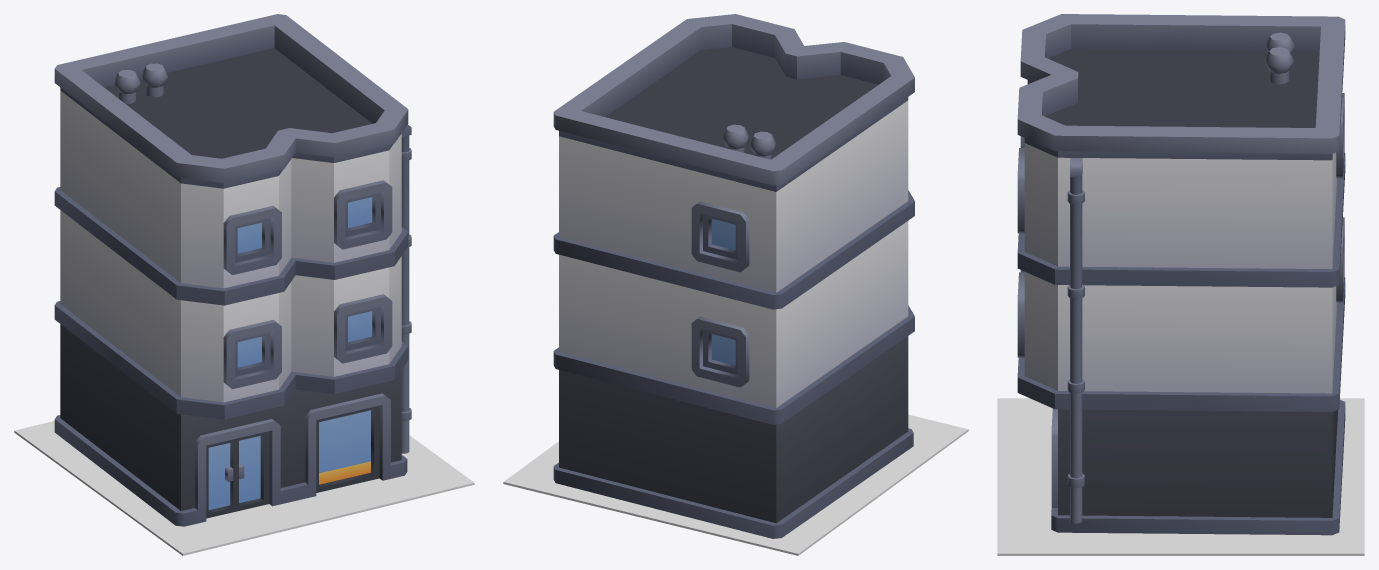
The picture shows the model from 3 angles, left to right: view 1: azimuth 30°, elevation 25°; view 2: azimuth 150°, elevation 25°; view 3: azimuth 270°, elevation 25°; orthographic projection. The views are drawn at different scales.
Visible parts, largest first — view 1: building-a, Cube; view 2: building-a, Cube; view 3: building-a, Cube.
Part boxes in pixels (<box>): building-a: <box>54,14,411,526</box>; Cube: <box>14,421,474,555</box>; building-a: <box>553,14,914,538</box>; Cube: <box>503,414,968,555</box>; building-a: <box>1017,14,1345,535</box>; Cube: <box>997,398,1364,555</box>.
Size of the model in its own units: 30 by 36.3 by 30.
2 materials, 1 textured.
